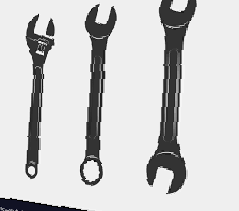Wrench: (139, 1, 199, 195), (75, 1, 112, 188), (23, 11, 48, 182)
